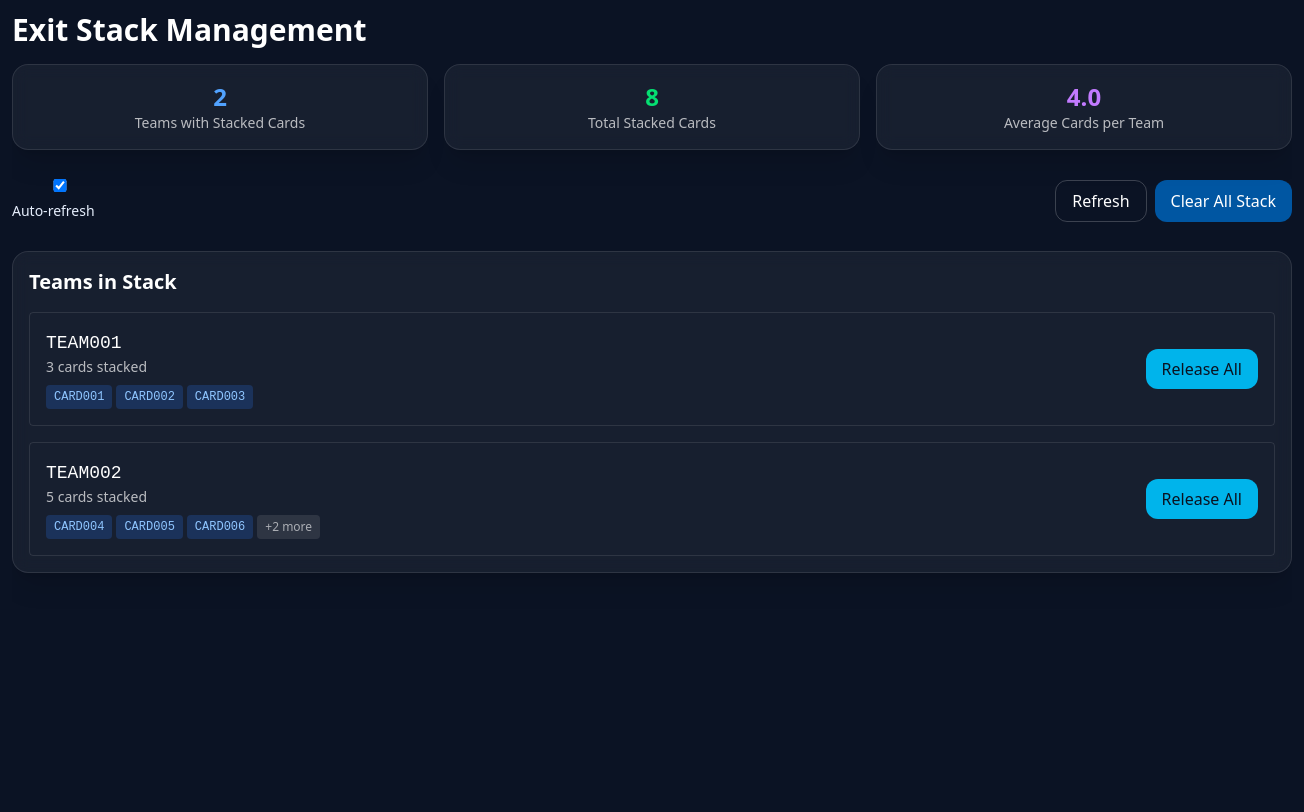
Scenario: ExitOutPage › shows release button loading state
The width and height of the screenshot is (1304, 812).
Expected: the text "TEAM001" is shown, [46, 333, 122, 353]
Click the button "Release All" in the row of "TEAM001": (1202, 369) [1146, 349, 1258, 389]
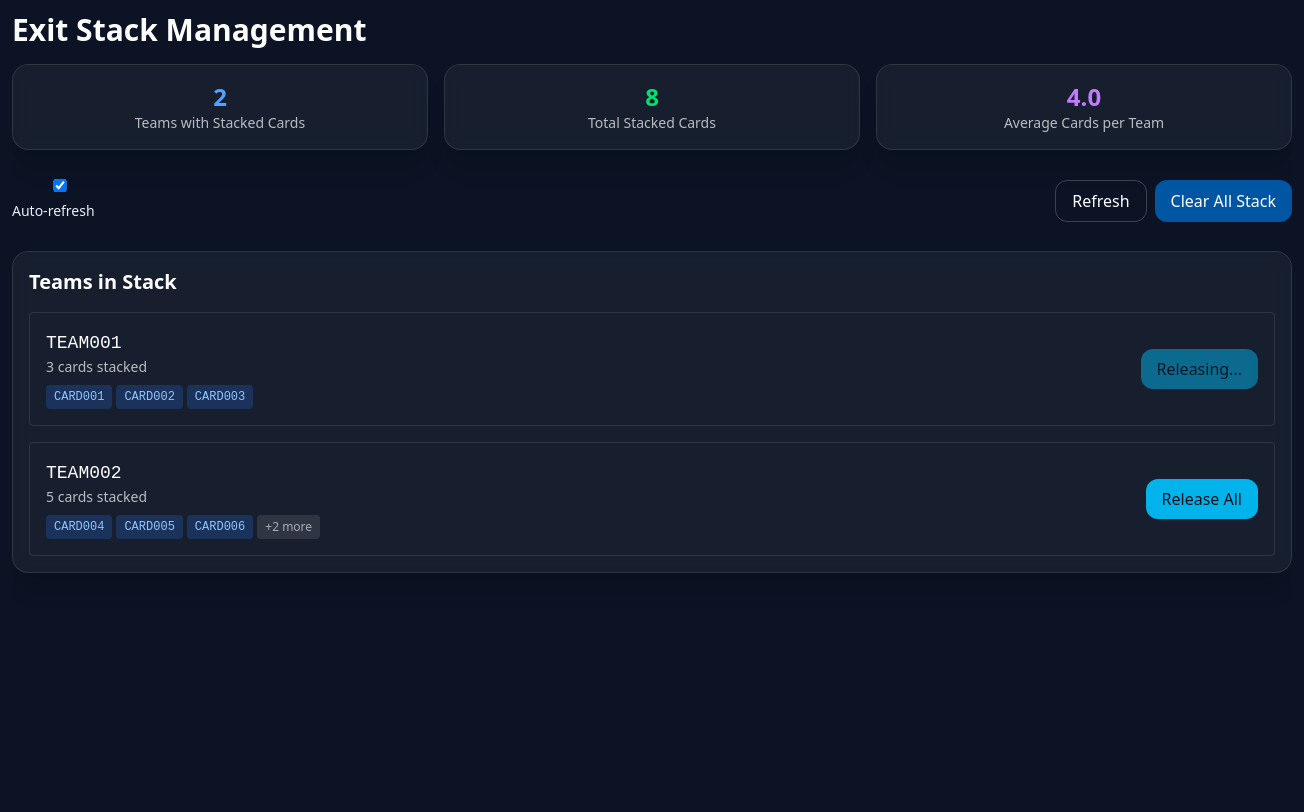
Expected: the button "Releasing..." is shown, [1140, 349, 1258, 389]
